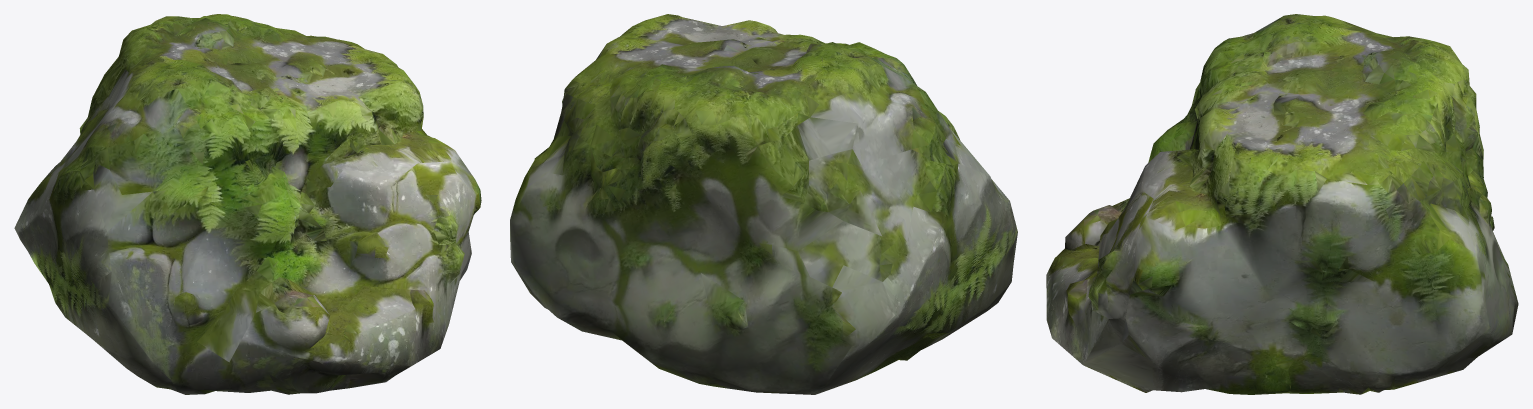
The model's file is rock_mossy_10.glb.
The picture shows the model from 3 angles, left to right: view 1: azimuth 30°, elevation 25°; view 2: azimuth 150°, elevation 25°; view 3: azimuth 270°, elevation 25°; orthographic projection. The views are drawn at different scales.
Visible parts, largest first — view 1: mossy_green_rock10_LOW_RES; view 2: mossy_green_rock10_LOW_RES; view 3: mossy_green_rock10_LOW_RES.
Boxes of the visible parts, <box> form: mossy_green_rock10_LOW_RES: <box>14,14,481,394</box>; mossy_green_rock10_LOW_RES: <box>510,14,1017,394</box>; mossy_green_rock10_LOW_RES: <box>1046,14,1518,394</box>.
Size of the model in its own units: 0.9279 by 0.6891 by 0.9987.
1 material, 1 textured.
